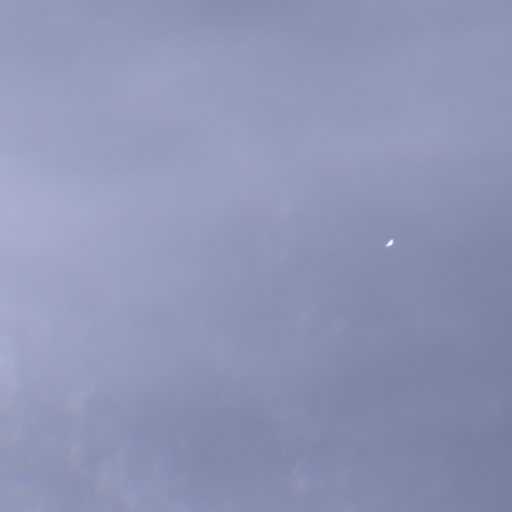Iceberg: (386, 239, 392, 246)
